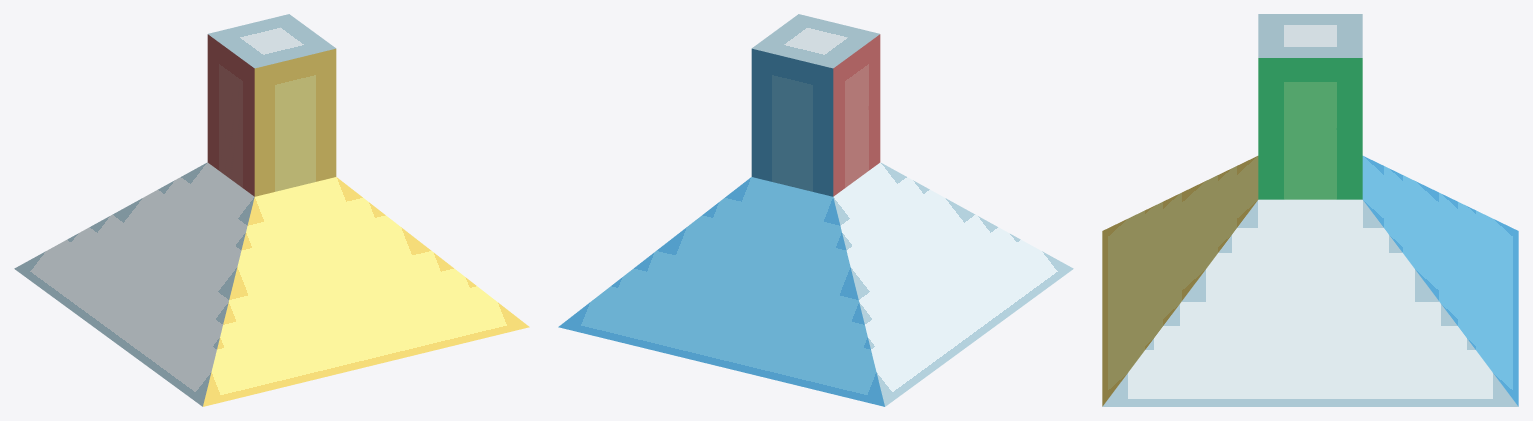
Rendered from simple_test.obj.
The picture shows the model from 3 angles, left to right: view 1: azimuth 30°, elevation 25°; view 2: azimuth 150°, elevation 25°; view 3: azimuth 270°, elevation 25°; orthographic projection. The views are drawn at different scales.
Parts seen in each view (by area): view 1: pyramid, cube; view 2: pyramid, cube; view 3: pyramid, cube.
Boxes of the visible parts, <box> form: pyramid: <box>14,162,529,406</box>; cube: <box>207,14,336,196</box>; pyramid: <box>558,162,1073,406</box>; cube: <box>751,14,880,196</box>; pyramid: <box>1102,156,1518,406</box>; cube: <box>1258,14,1362,199</box>.
Size of the model in its own units: 1 by 0.75 by 1.
